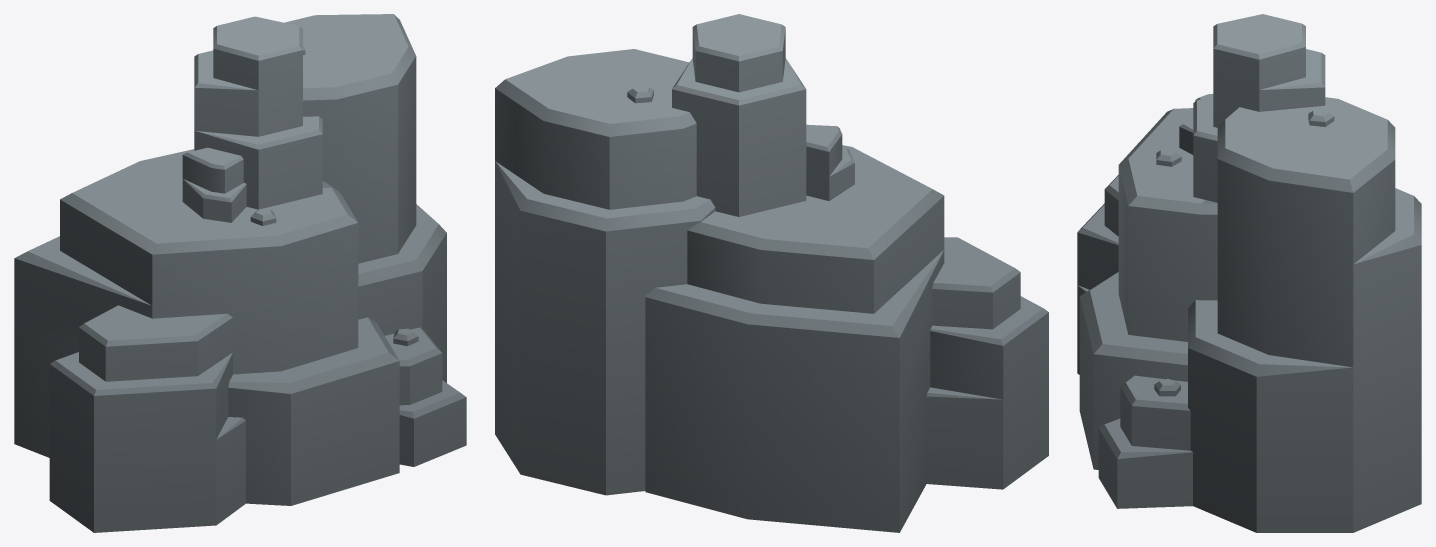
Rendered from Rock_1_M_Color1.glb.
3 renders of one model, left to right at view 1: azimuth 30°, elevation 25°; view 2: azimuth 150°, elevation 25°; view 3: azimuth 270°, elevation 25°, orthographic. The views are drawn at different scales.
Visible parts, largest first — view 1: Rock_1_M_Color1; view 2: Rock_1_M_Color1; view 3: Rock_1_M_Color1.
Part boxes in pixels (bbox=[...]): Rock_1_M_Color1: bbox=[14, 14, 466, 532]; Rock_1_M_Color1: bbox=[495, 14, 1048, 532]; Rock_1_M_Color1: bbox=[1077, 14, 1421, 532].
Bounding box in the file's own units: 3.91 × 3.52 × 2.71.
1 material, 1 textured.
